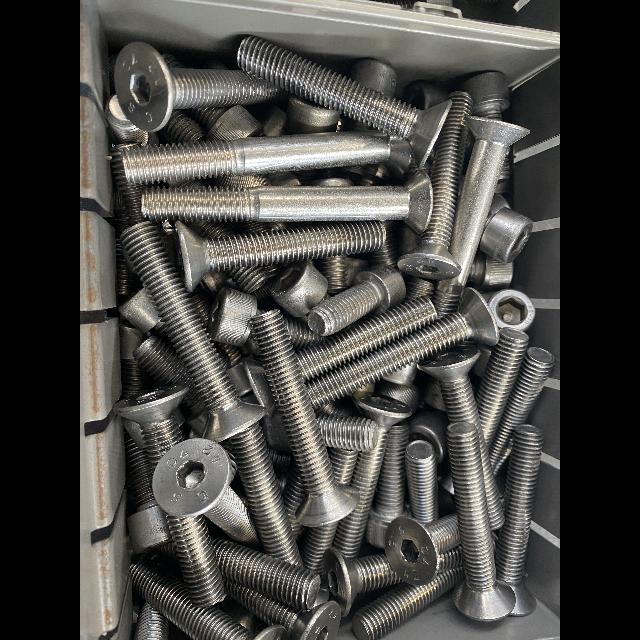Stainless Steel: (121, 221, 267, 443), (237, 39, 451, 168), (306, 288, 498, 407), (253, 311, 352, 527), (433, 116, 529, 319), (142, 170, 432, 235), (415, 342, 504, 531), (175, 221, 386, 294), (123, 133, 410, 186), (114, 42, 275, 131), (445, 421, 516, 622), (397, 92, 471, 281), (334, 391, 411, 557), (295, 298, 437, 380), (151, 438, 259, 545), (230, 423, 304, 569), (131, 561, 254, 640), (495, 425, 543, 616), (351, 565, 464, 640), (490, 347, 554, 475), (213, 540, 320, 610), (306, 265, 406, 336), (114, 384, 189, 471), (476, 328, 528, 448), (321, 547, 402, 615), (384, 514, 460, 585), (167, 516, 224, 607), (126, 437, 171, 552), (367, 424, 408, 547), (133, 332, 192, 389), (271, 261, 328, 318), (479, 207, 533, 264), (207, 288, 257, 346), (405, 440, 438, 523), (296, 522, 340, 579), (317, 413, 380, 452), (195, 105, 263, 141), (117, 289, 168, 335), (461, 71, 509, 119), (287, 93, 340, 134), (105, 94, 148, 144), (483, 289, 535, 330), (215, 343, 252, 396), (410, 407, 445, 463), (243, 357, 275, 417), (351, 59, 397, 98), (467, 251, 513, 289), (120, 328, 144, 396), (283, 467, 305, 540), (162, 111, 205, 145), (402, 80, 448, 110), (230, 265, 278, 293), (284, 316, 321, 349), (374, 380, 419, 407), (373, 221, 398, 269), (328, 448, 358, 485), (380, 363, 418, 388), (321, 258, 346, 293), (421, 379, 445, 411), (218, 174, 271, 188), (188, 221, 231, 238), (405, 278, 434, 300), (437, 466, 454, 500), (438, 546, 460, 571), (123, 422, 144, 448), (254, 625, 290, 640), (487, 194, 510, 215), (496, 155, 509, 182), (313, 179, 354, 185), (191, 382, 201, 405)
